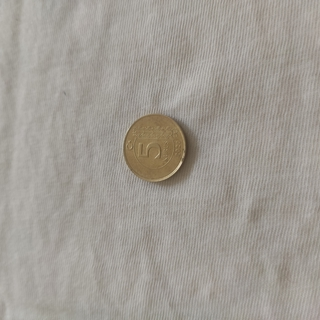5KURUS: (121, 113, 189, 184)
